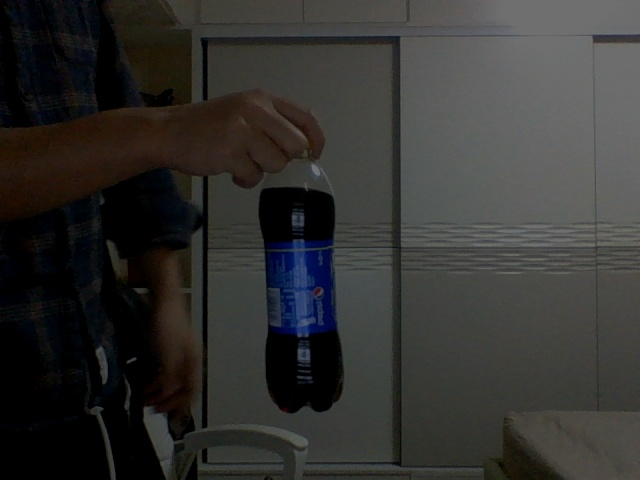Cola: (262, 149, 346, 414)
